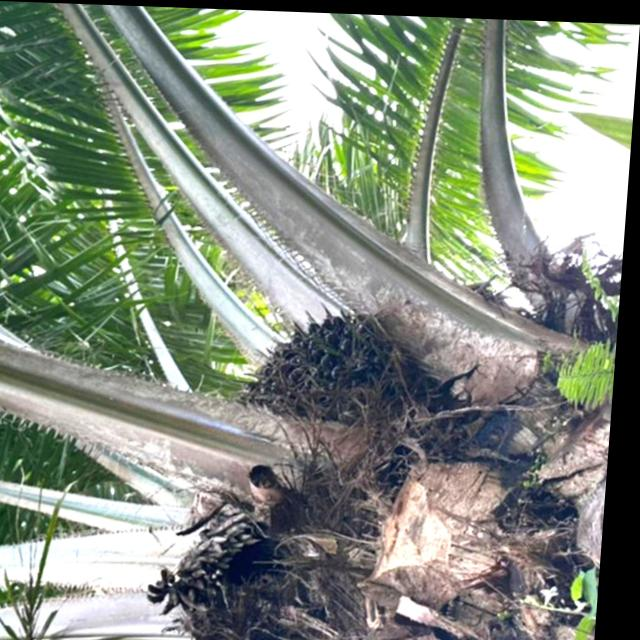unripe: (224, 292, 477, 455)
